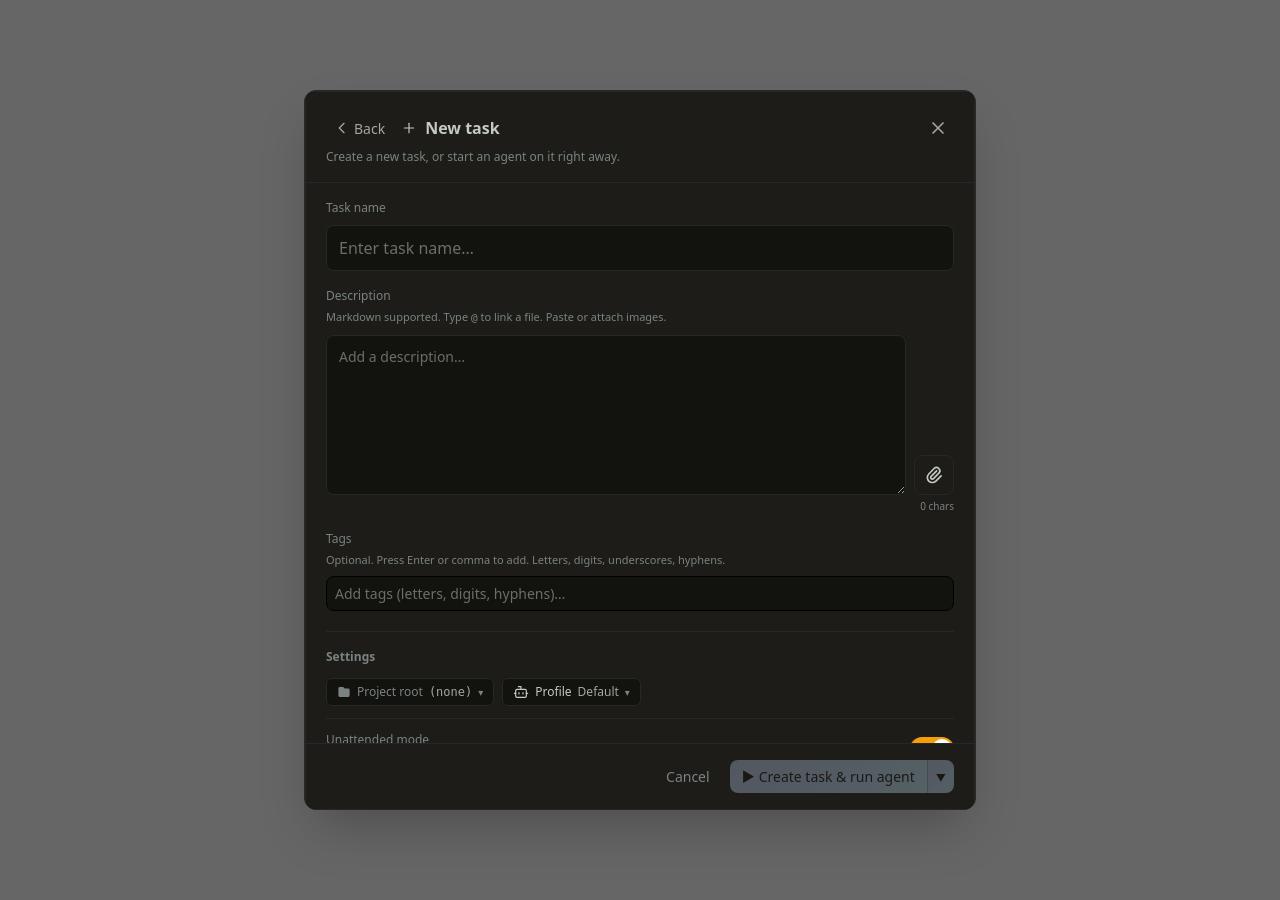
Test: KanbanTaskDetailDialog — commit split button › the caret opens and closes the menu, and reports it via aria-expanded
Step 1. Type "My task" into the field with test id "kanban-task-detail-create-name" → (640, 248), box x1=326 y1=225 x2=954 y2=271
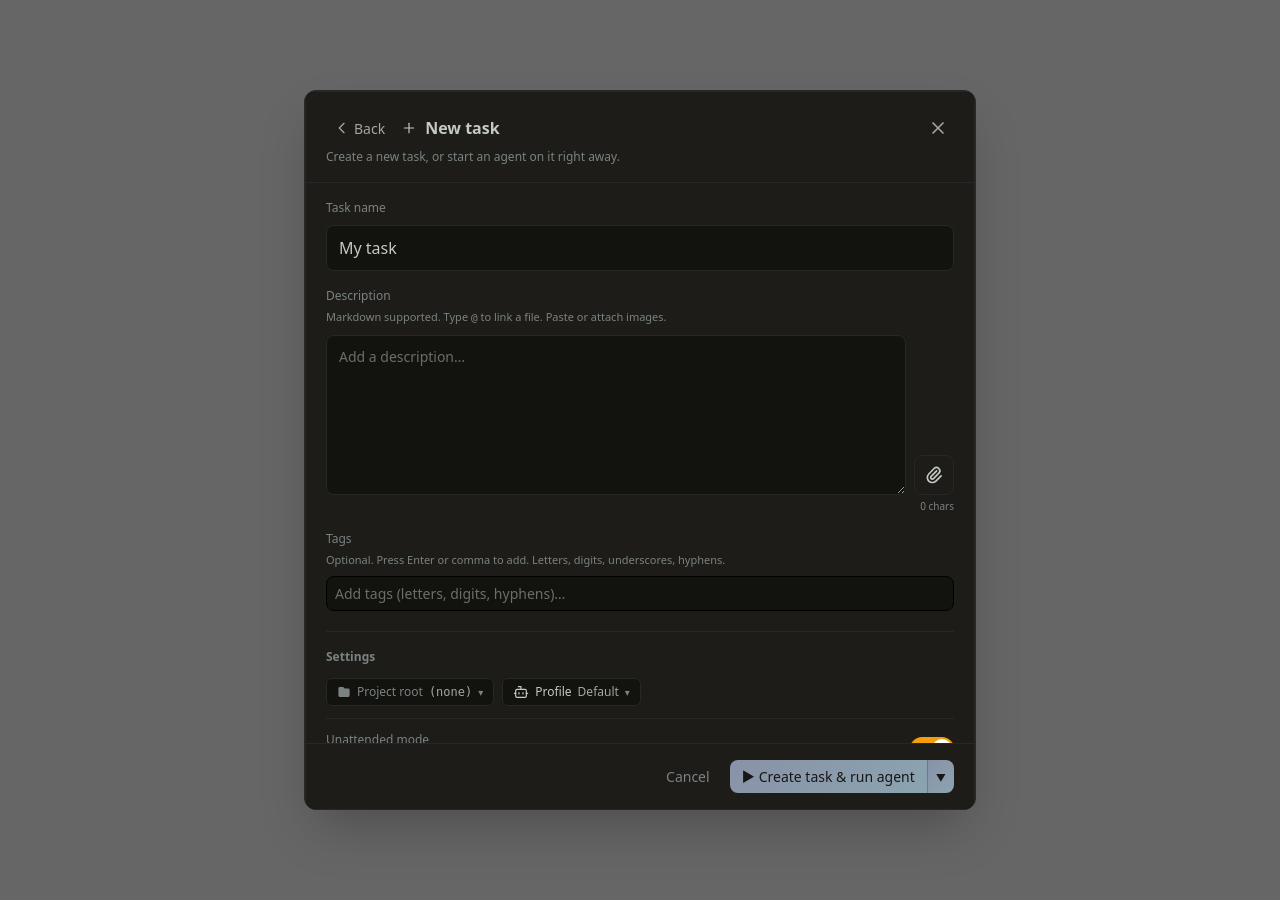
Step 2. Click the button with test id "kanban-task-detail-commit-caret" → (940, 776), box x1=927 y1=760 x2=954 y2=793
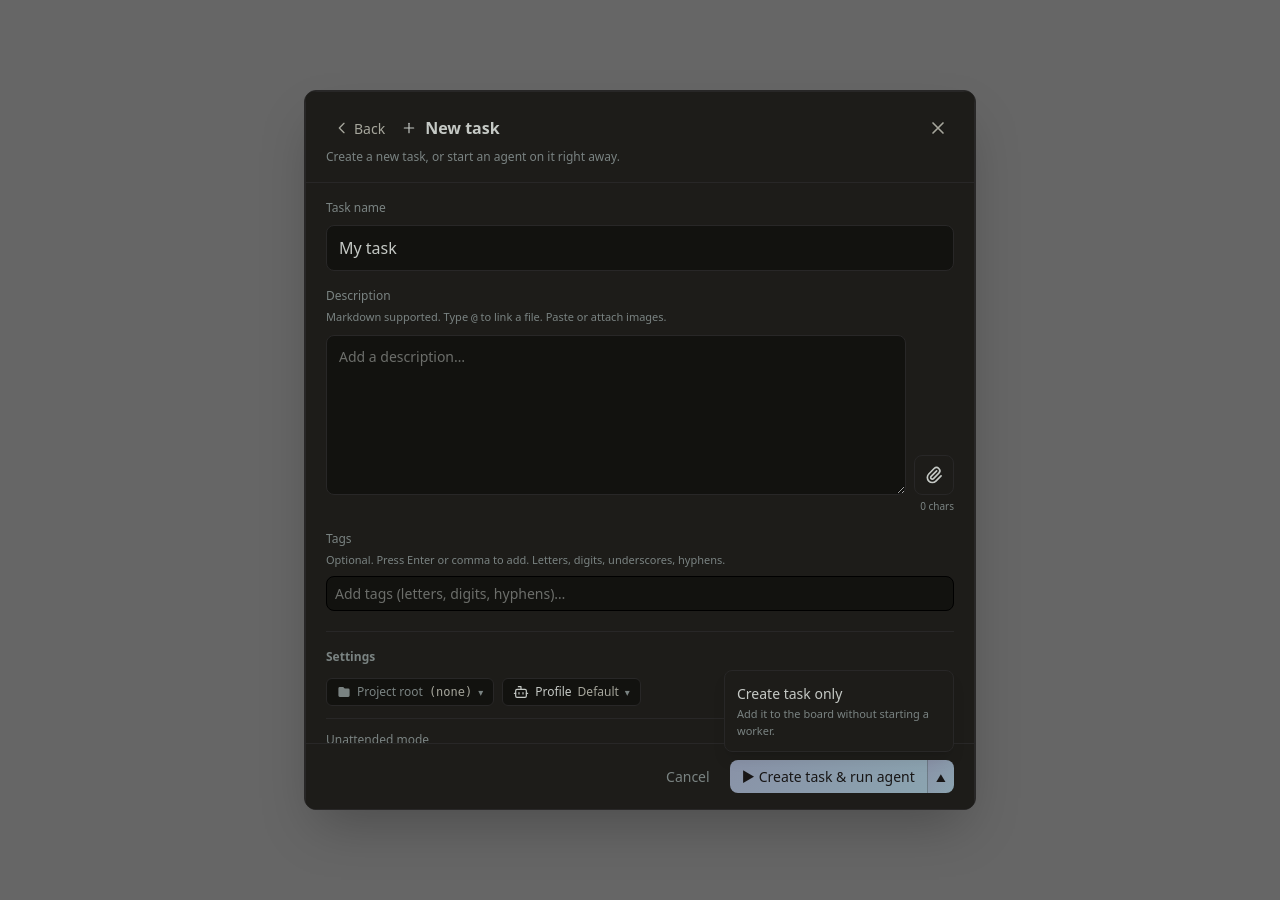
Expected: the button with test id "kanban-task-detail-commit-caret" is expanded
Step 3. Click the button with test id "kanban-task-detail-commit-caret" → (940, 776), box x1=927 y1=760 x2=954 y2=793
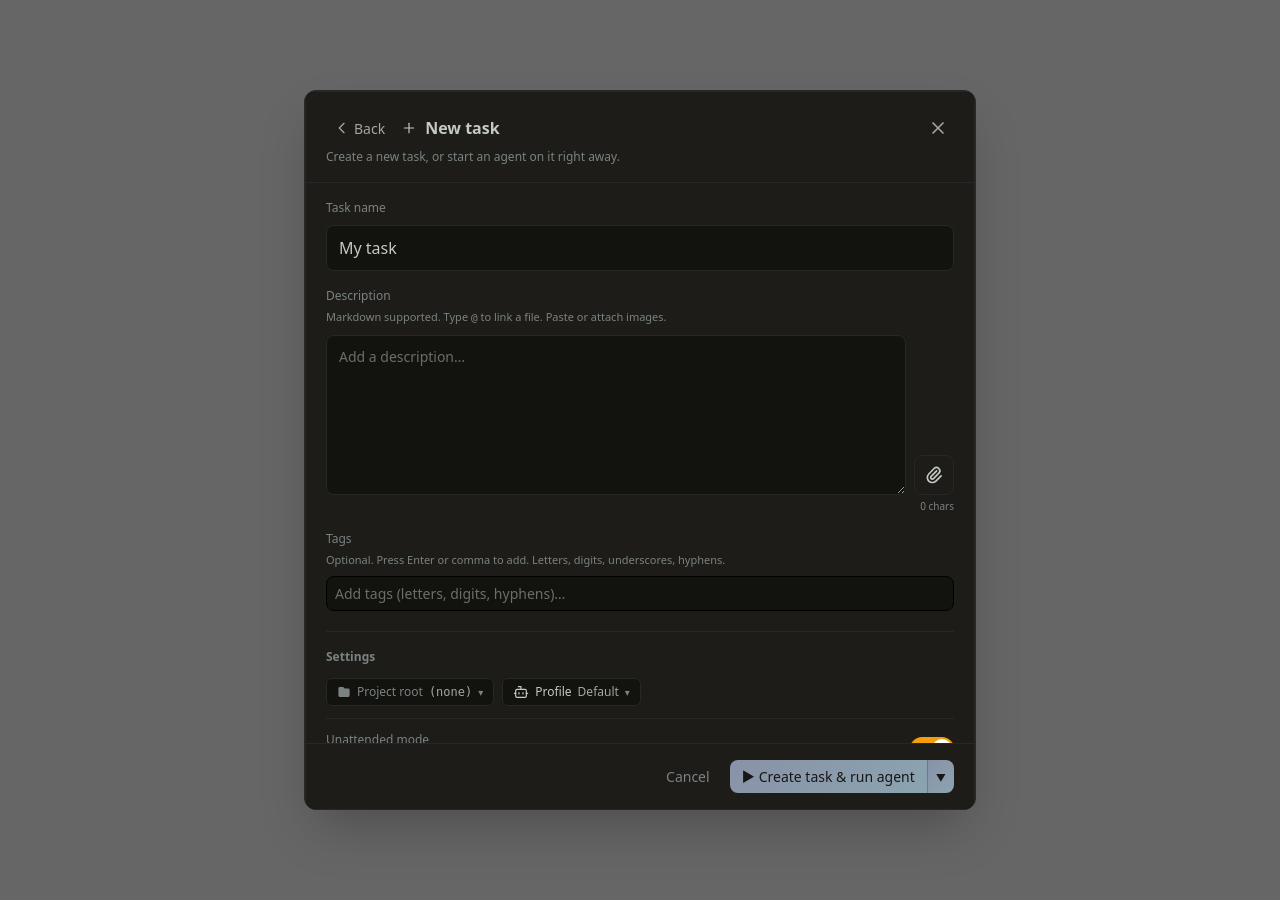
Expected: the button with test id "kanban-task-detail-commit-caret" is collapsed, x1=927 y1=760 x2=954 y2=793
